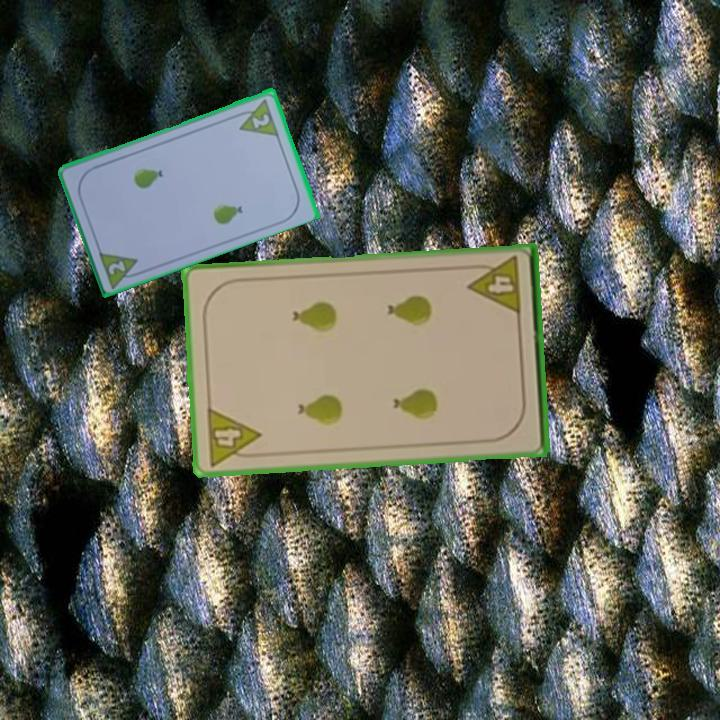2p: (95, 247, 146, 290), (232, 95, 281, 138)
4p: (203, 404, 264, 469), (464, 253, 524, 318)
